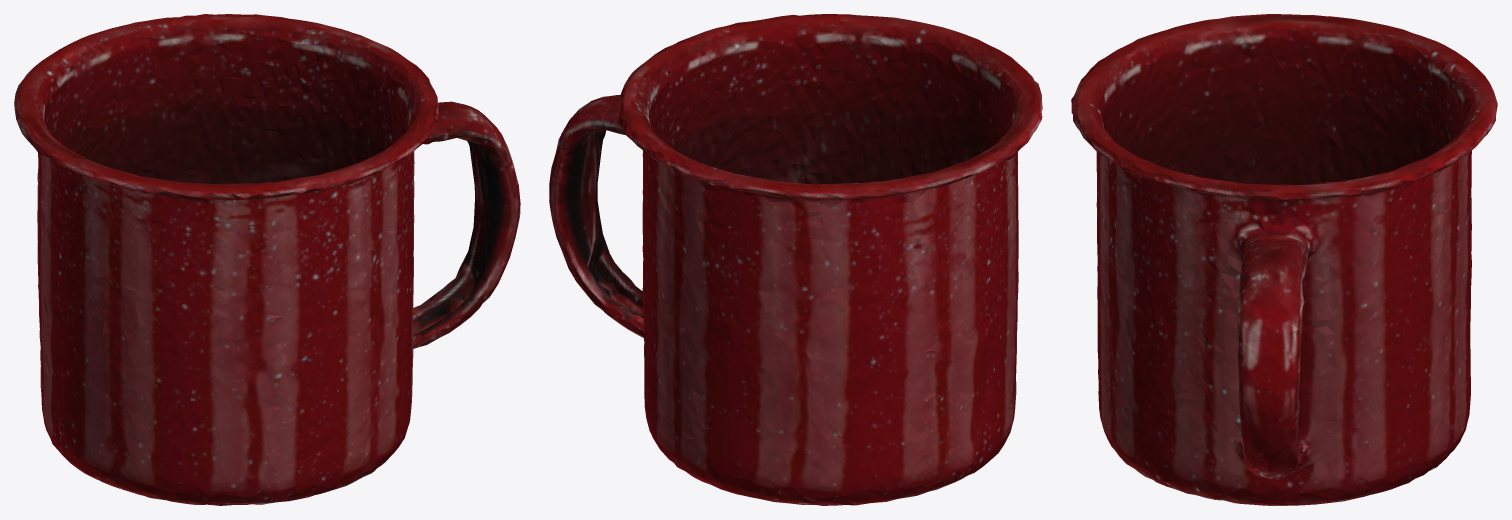
The model's file is mug.glb.
3 renders of one model, left to right at view 1: azimuth 30°, elevation 25°; view 2: azimuth 150°, elevation 25°; view 3: azimuth 270°, elevation 25°, orthographic.
Visible parts, largest first — view 1: 025_mug_textured.obj; view 2: 025_mug_textured.obj; view 3: 025_mug_textured.obj.
Part boxes in pixels (box(x1,y1,x2,y2)): 025_mug_textured.obj: box(14, 14, 520, 505); 025_mug_textured.obj: box(549, 14, 1042, 505); 025_mug_textured.obj: box(1071, 14, 1497, 505).
Bounding box in the file's own units: 0.117 × 0.0813 × 0.0931.
1 material, 1 textured.
